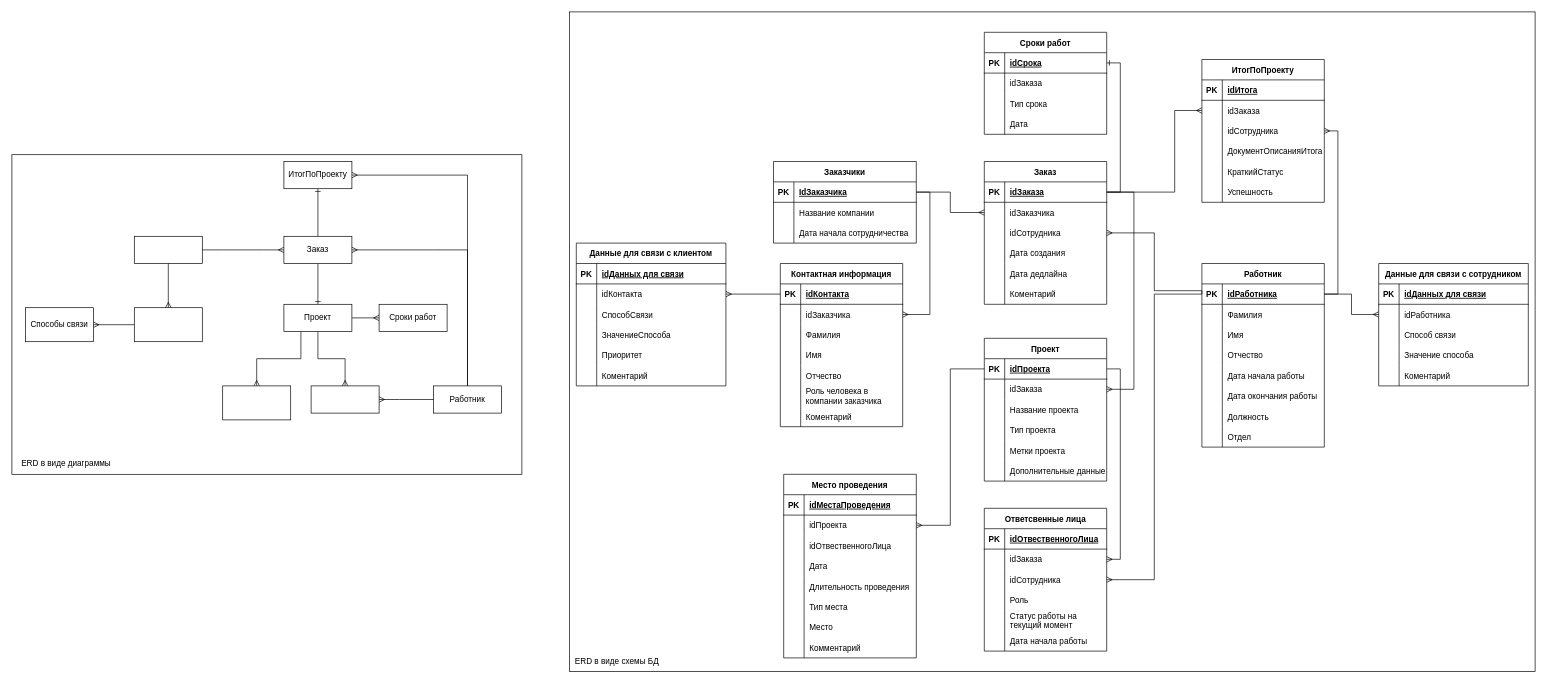
Some shapes in this 1547 by 683 pixel diagram are drawn without their labels. Here are the shapes that lost their labels. From the top down, the centre of each, then its label:
the point at 168,250: Заказчик
the point at 168,324: Контактная информация о клиенте
the point at 256,402: Место проведения проекта
the point at 344,399: Отвественные лица
